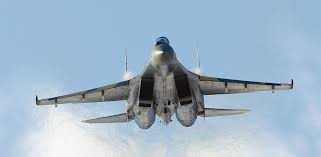fighter: (29, 33, 297, 130)
